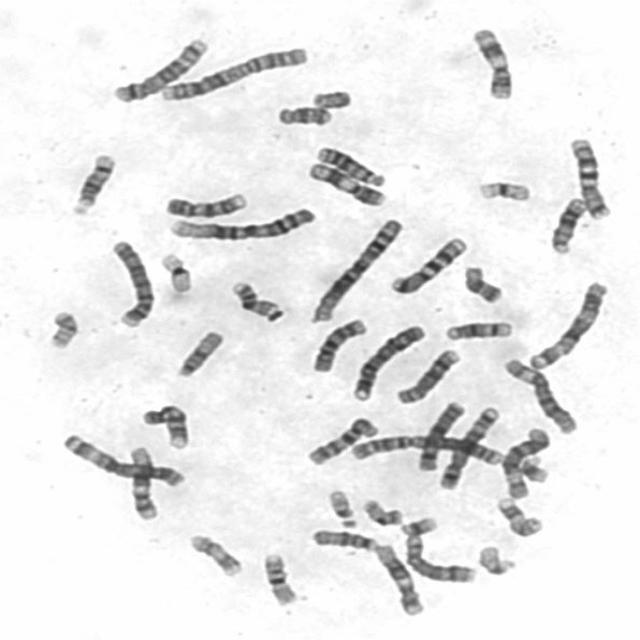A1: (305, 213, 406, 324), (163, 202, 318, 242)
A2: (154, 42, 310, 102), (344, 429, 506, 468)
A3: (523, 276, 611, 372), (55, 428, 188, 489)
B4: (347, 320, 427, 402), (103, 235, 156, 328)
B5: (108, 32, 212, 104), (434, 400, 504, 492)
C10: (302, 412, 381, 467), (306, 314, 369, 374)
C11: (302, 158, 388, 208), (466, 22, 515, 101)
C12: (371, 539, 426, 618), (123, 442, 160, 521)
C6: (498, 353, 580, 435), (496, 424, 552, 500)
C7: (384, 232, 470, 296), (563, 133, 613, 221)
C8: (390, 344, 463, 406), (398, 530, 478, 585)
C9: (160, 188, 250, 220), (136, 398, 192, 449)
D13: (310, 141, 388, 188), (544, 193, 590, 256)
D14: (65, 148, 118, 216), (440, 316, 516, 342)
D15: (170, 326, 226, 379), (306, 524, 379, 554)
E16: (226, 276, 286, 323), (258, 548, 300, 606)
E17: (182, 529, 245, 579), (490, 493, 546, 538)
E18: (458, 261, 504, 305), (271, 101, 334, 127)
F19: (155, 248, 194, 295), (471, 175, 534, 203)
F20: (42, 306, 80, 350), (356, 495, 405, 527)
G21: (515, 451, 551, 484), (394, 512, 439, 536)
G22: (322, 484, 360, 530), (472, 541, 518, 577)
X: (411, 395, 468, 473)
Y: (306, 84, 353, 110)
